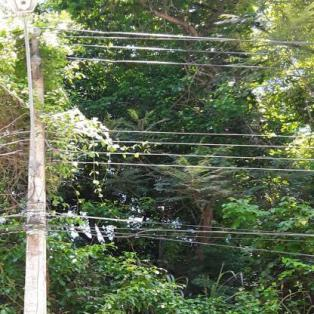Poste: (8, 32, 52, 314)
